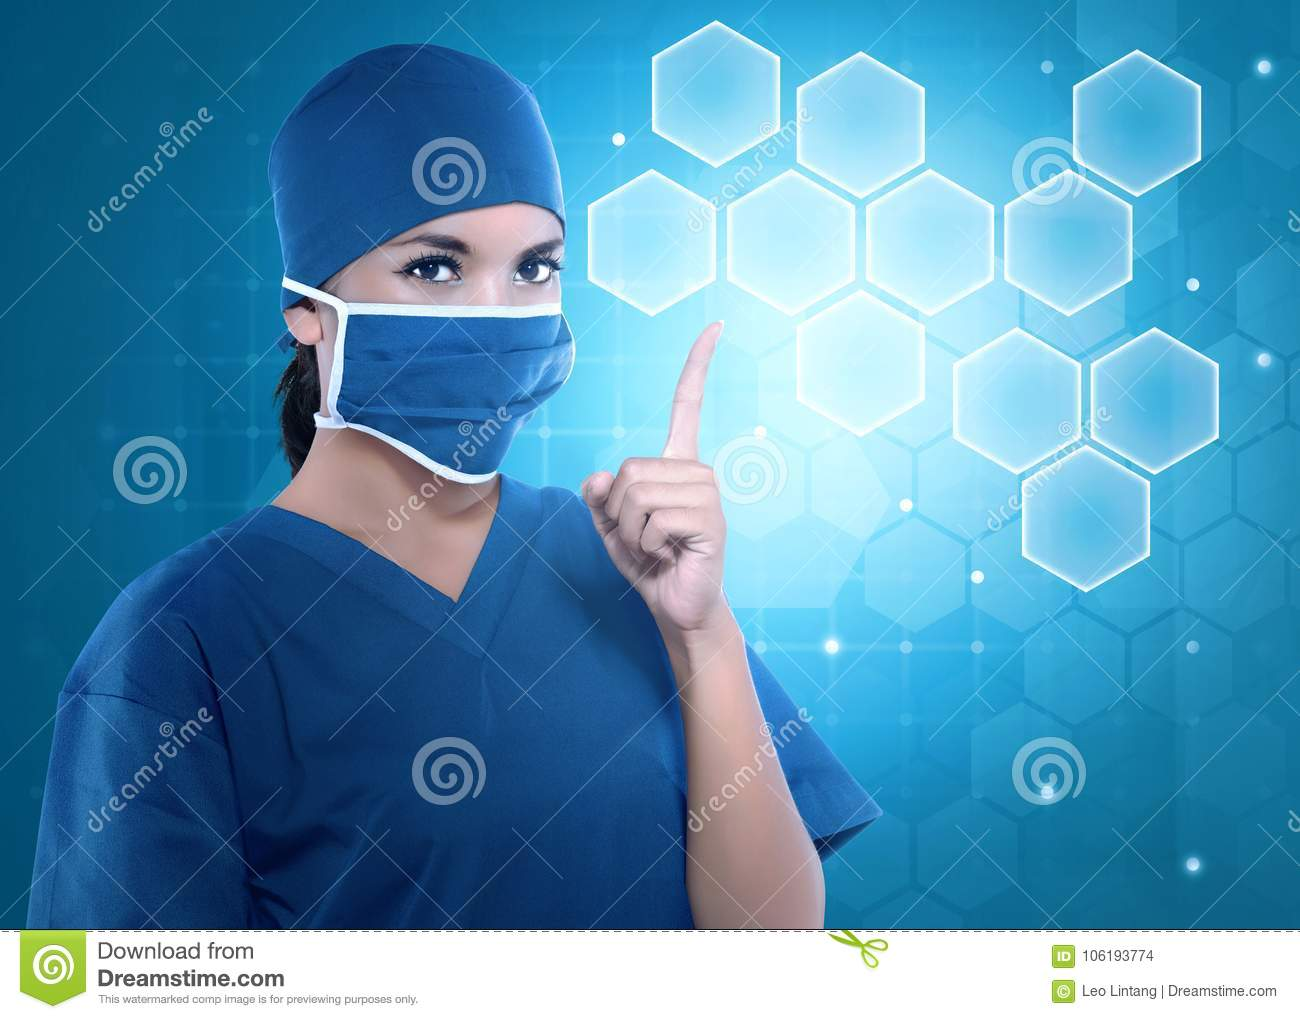mask: (341, 299, 577, 496)
